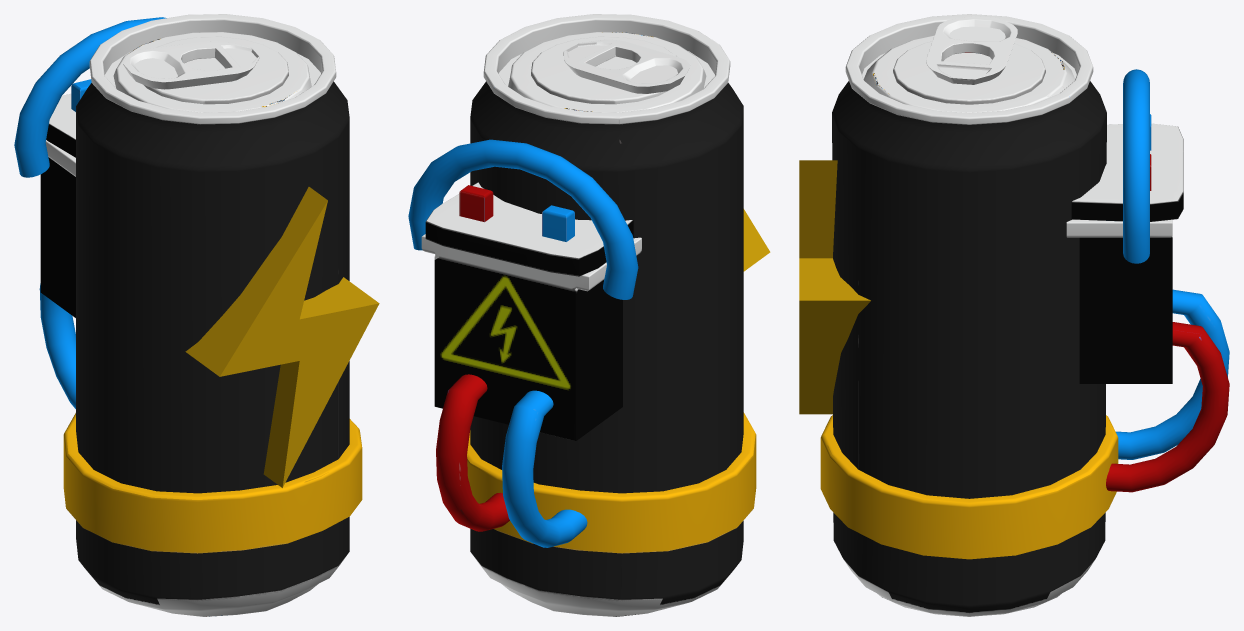
File: drink.fbx
3 renders of one model, left to right at view 1: azimuth 30°, elevation 25°; view 2: azimuth 150°, elevation 25°; view 3: azimuth 270°, elevation 25°, orthographic.
Parts seen in each view (by area): view 1: Main, EnergyUp, Energy, Top; view 2: Main, Energy, Top, EnergyUp; view 3: Main, Energy, EnergyUp, Top.
Boxes of the visible parts, x1=… form: Main: x1=63, y1=14, x2=362, y2=616; EnergyUp: x1=185, y1=187, x2=379, y2=487; Energy: x1=14, y1=17, x2=166, y2=408; Top: x1=123, y1=41, x2=259, y2=89; Main: x1=467, y1=14, x2=756, y2=616; Energy: x1=408, y1=139, x2=641, y2=547; Top: x1=563, y1=39, x2=690, y2=93; EnergyUp: x1=743, y1=209, x2=770, y2=271; Main: x1=820, y1=14, x2=1118, y2=616; Energy: x1=1066, y1=69, x2=1229, y2=492; EnergyUp: x1=799, y1=160, x2=870, y2=414; Top: x1=926, y1=16, x2=1017, y2=84.
Size of the model in its own units: 2.98 by 5.68 by 4.27.
2 materials, 1 textured.
